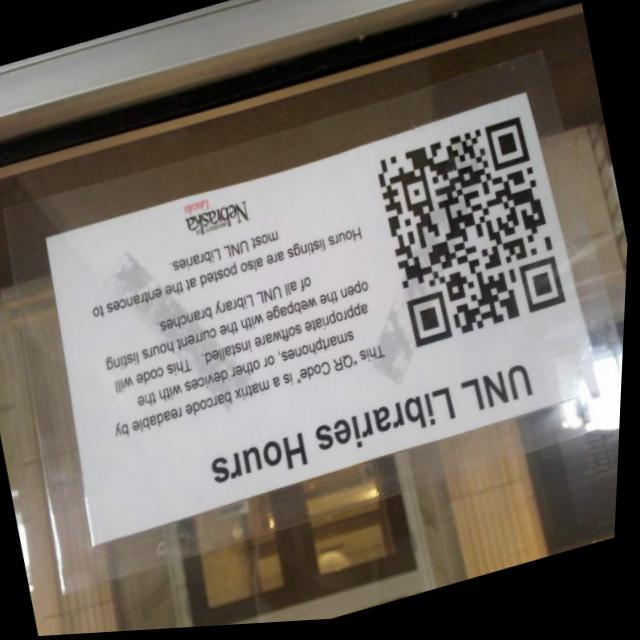qrcode: (369, 118, 576, 357)
